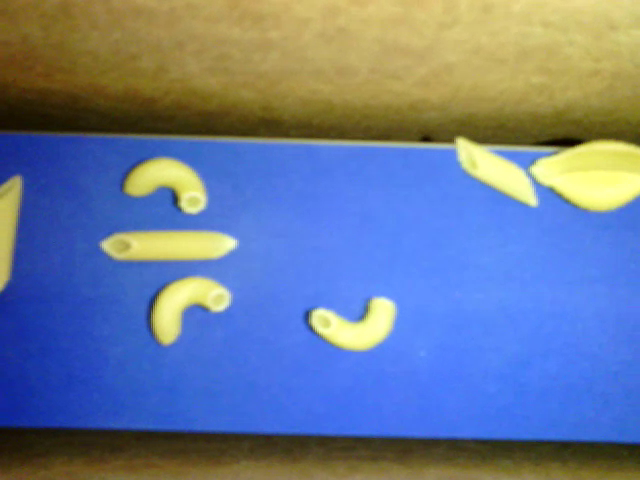elbow: (150, 276, 232, 346), (307, 295, 396, 353), (122, 156, 207, 214)
penne: (454, 136, 538, 207), (97, 229, 238, 259), (1, 173, 23, 291)
shell: (531, 140, 639, 212)
